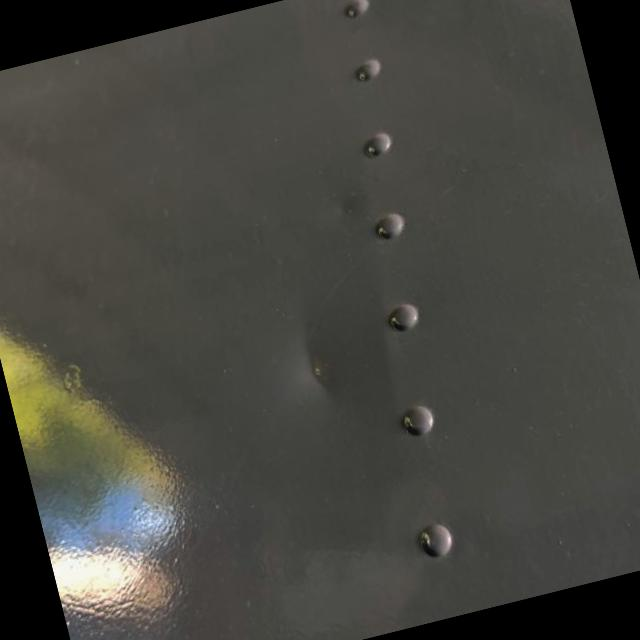dent: (257, 294, 376, 428)
